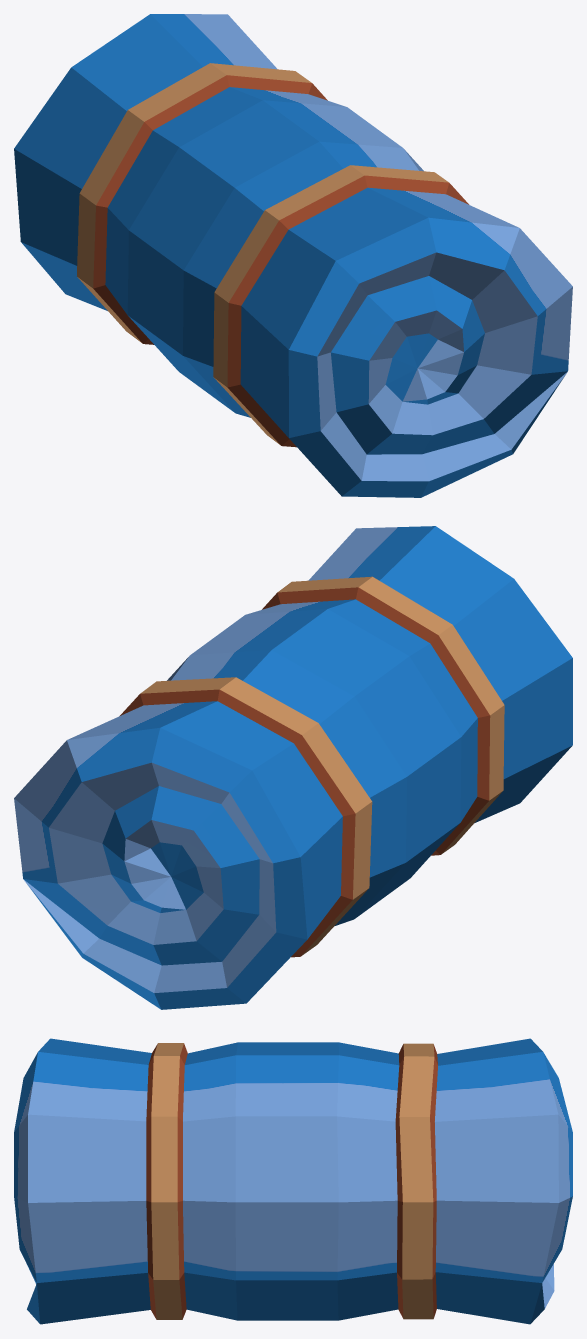
The model's file is CajaMediana1.FBX.
3 views of the same model, one above another, from view 1: azimuth 30°, elevation 25°; view 2: azimuth 150°, elevation 25°; view 3: azimuth 270°, elevation 25° (orthographic). The views are drawn at different scales.
Visible parts, largest first — view 1: SM_Item_Roll_Attachment_01; view 2: SM_Item_Roll_Attachment_01; view 3: SM_Item_Roll_Attachment_01.
Part boxes in pixels (x1=…): SM_Item_Roll_Attachment_01: x1=14, y1=14, x2=572, y2=497; SM_Item_Roll_Attachment_01: x1=14, y1=526, x2=572, y2=1009; SM_Item_Roll_Attachment_01: x1=14, y1=1038, x2=572, y2=1324.
Size of the model in its own units: 103 by 198 by 101.
1 material, 1 textured.
